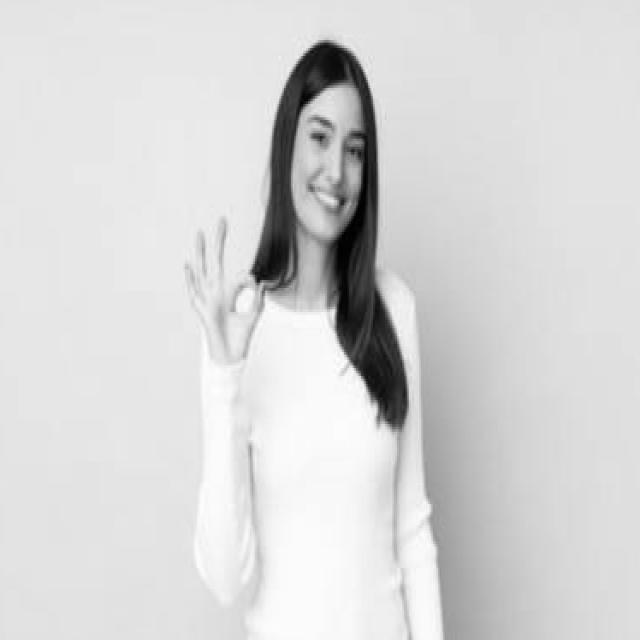perfect: (180, 211, 271, 369)
